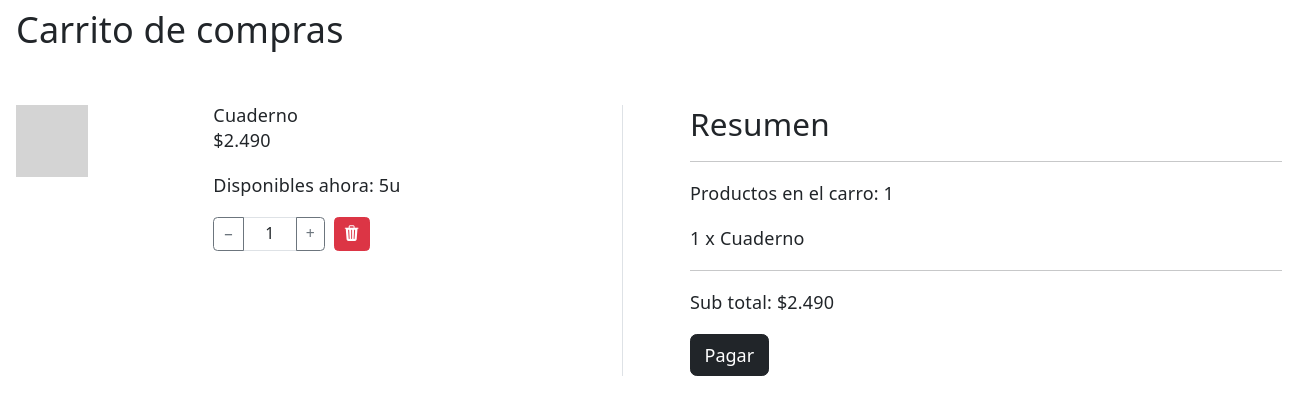
Test: Cart › Elimina la línea con la papelera y deshabilita Pagar
Click the button named "Quitar Cuaderno del carrito": coordinates (352, 234) [334, 217, 370, 251]
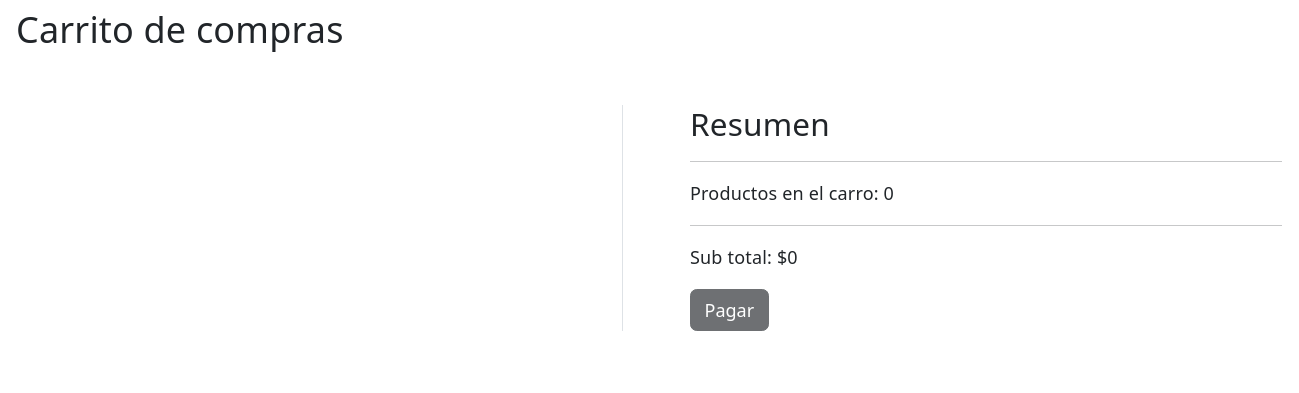
Expected: the heading "Cuaderno" is gone
Expected: the text "Productos en el carro: 0" is shown, [690, 181, 894, 205]
Expected: the button "Pagar" is disabled, [690, 289, 769, 332]
